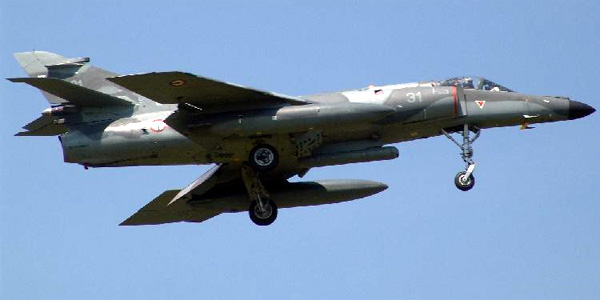Aeronef_militaire: (3, 47, 600, 234)
